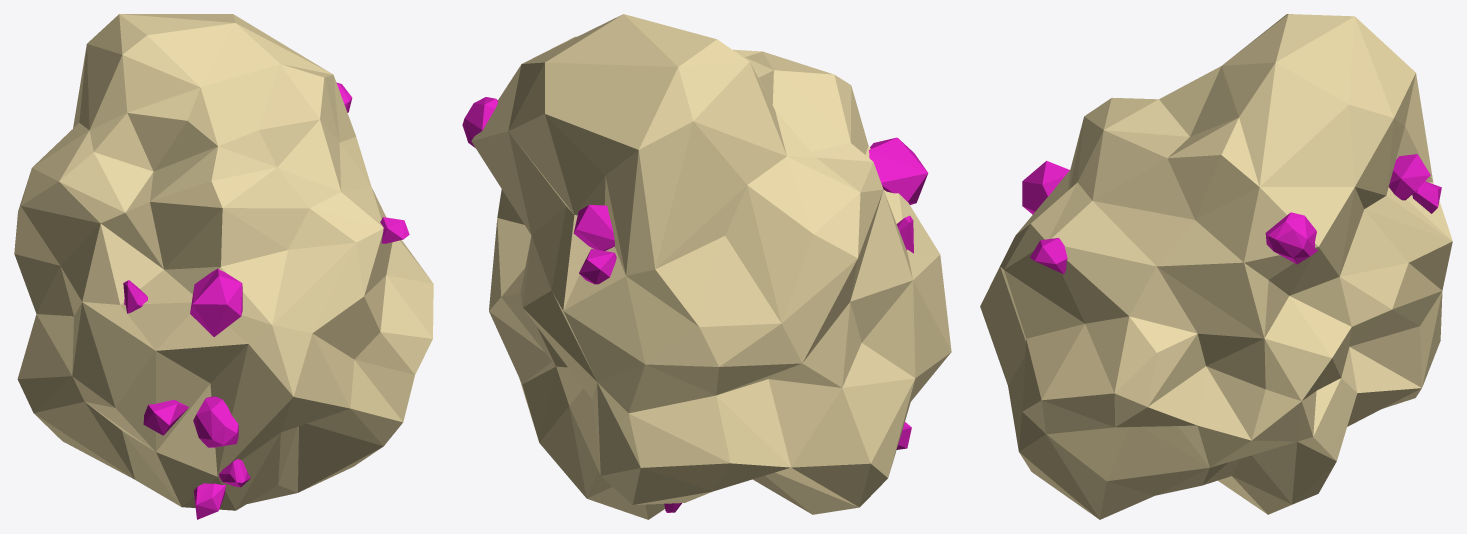
Rendered from CrystalOre (56).fbx.
3 renders of one model, left to right at view 1: azimuth 30°, elevation 25°; view 2: azimuth 150°, elevation 25°; view 3: azimuth 270°, elevation 25°, orthographic. The views are drawn at different scales.
Visible parts, largest first — view 1: Asteroid276; view 2: Asteroid276; view 3: Asteroid276.
Part boxes in pixels (left/top/right/bottom): Asteroid276: left=14, top=14, right=433, bottom=519; Asteroid276: left=462, top=14, right=951, bottom=519; Asteroid276: left=980, top=14, right=1452, bottom=519.
Bounding box in the file's own units: 327 × 387 × 359.
